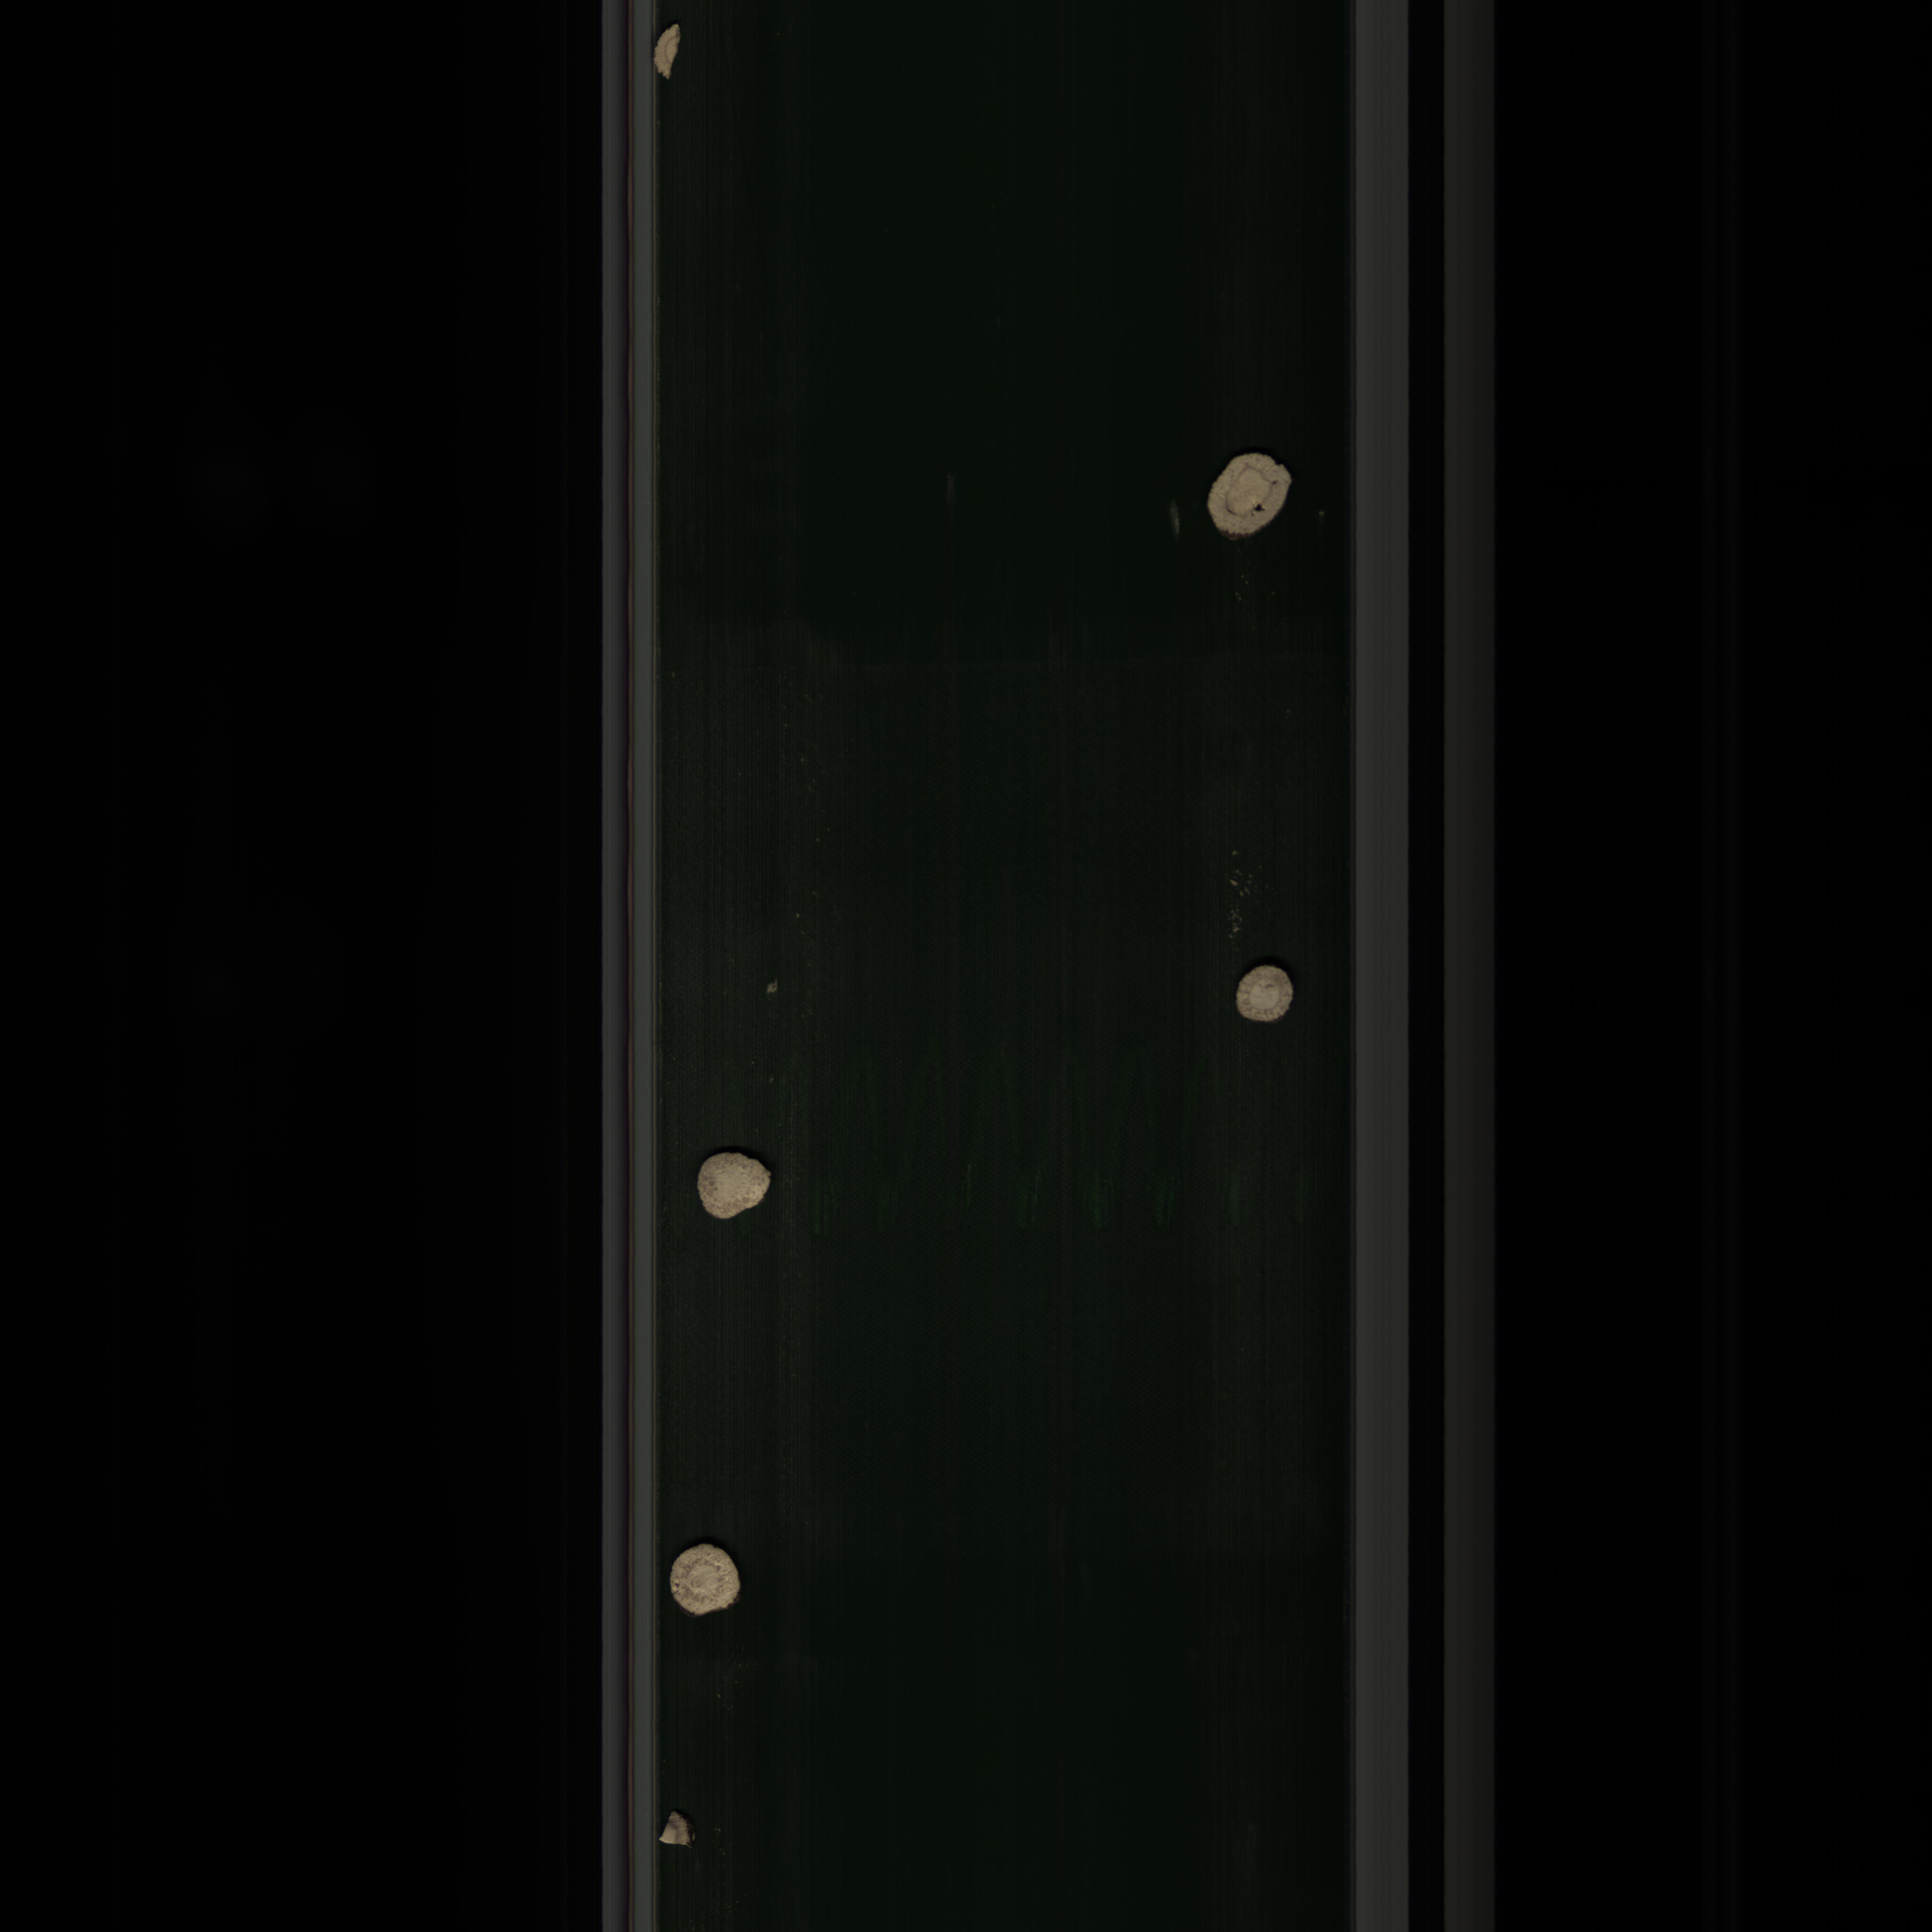bark: (648, 19, 699, 81), (656, 1806, 701, 1859)
hole: (1207, 441, 1306, 563)
